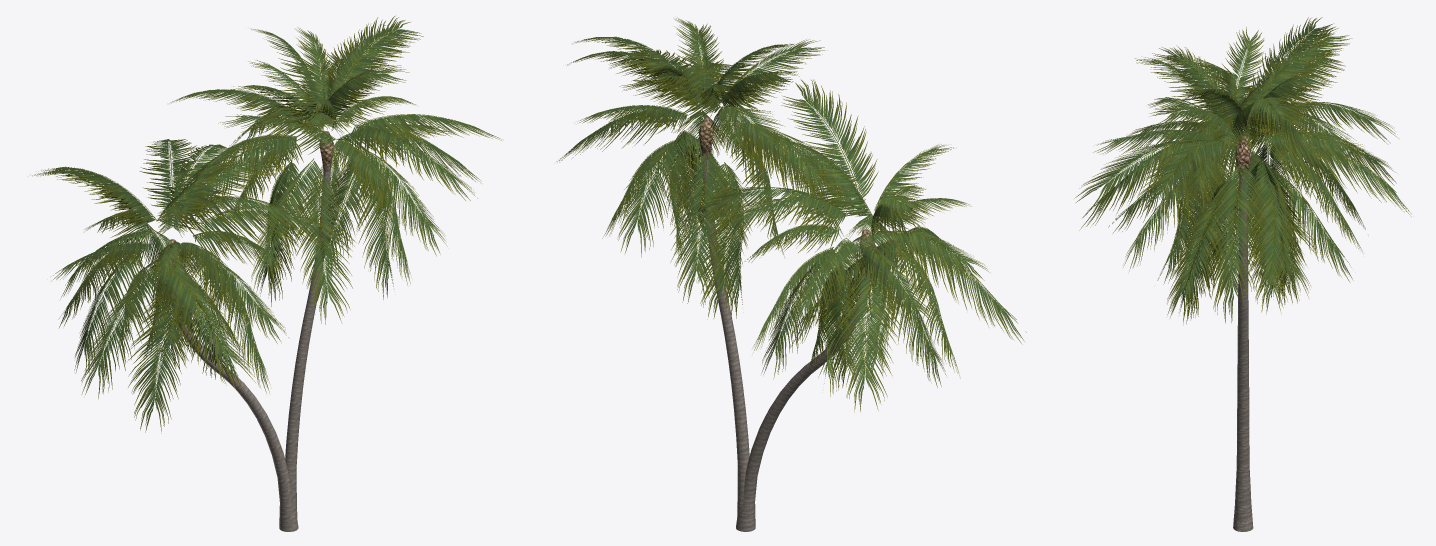
The model's file is palms_v3.glb.
The picture shows the model from 3 angles, left to right: view 1: azimuth 30°, elevation 25°; view 2: azimuth 150°, elevation 25°; view 3: azimuth 270°, elevation 25°; orthographic projection. The views are drawn at different scales.
Visible parts, largest first — view 1: PALM_NEW_B2, PALM_NEW_B1; view 2: PALM_NEW_B1, PALM_NEW_B2; view 3: PALM_NEW_B2, PALM_NEW_B1.
Part boxes in pixels (x1,y1,x2,y2): PALM_NEW_B2: [170, 16, 501, 518]; PALM_NEW_B1: [30, 133, 333, 531]; PALM_NEW_B1: [693, 79, 1026, 531]; PALM_NEW_B2: [556, 17, 865, 518]; PALM_NEW_B2: [1074, 27, 1411, 522]; PALM_NEW_B1: [1079, 17, 1398, 531].
Size of the model in its own units: 14.65 by 15 by 9.84.
Materials: 6 (6 with a texture image).
